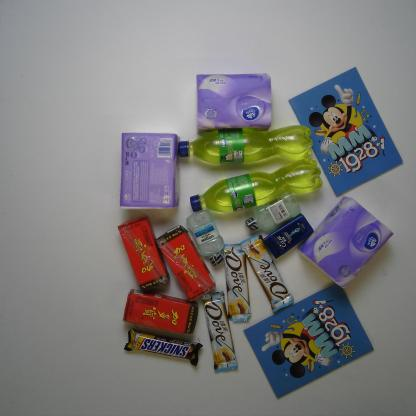Chocolate: (239, 230, 296, 312), (121, 328, 203, 367), (201, 289, 239, 372), (221, 240, 252, 324)
Drink: (188, 154, 324, 215), (179, 122, 314, 165), (155, 225, 218, 302), (116, 213, 170, 295), (121, 287, 200, 336)
Personal Hygiene: (184, 207, 227, 268), (242, 192, 302, 235), (262, 211, 314, 260)
Stationery: (244, 276, 376, 402), (286, 64, 405, 198)
Tissue: (297, 195, 394, 292), (118, 129, 181, 212), (194, 70, 273, 136)
